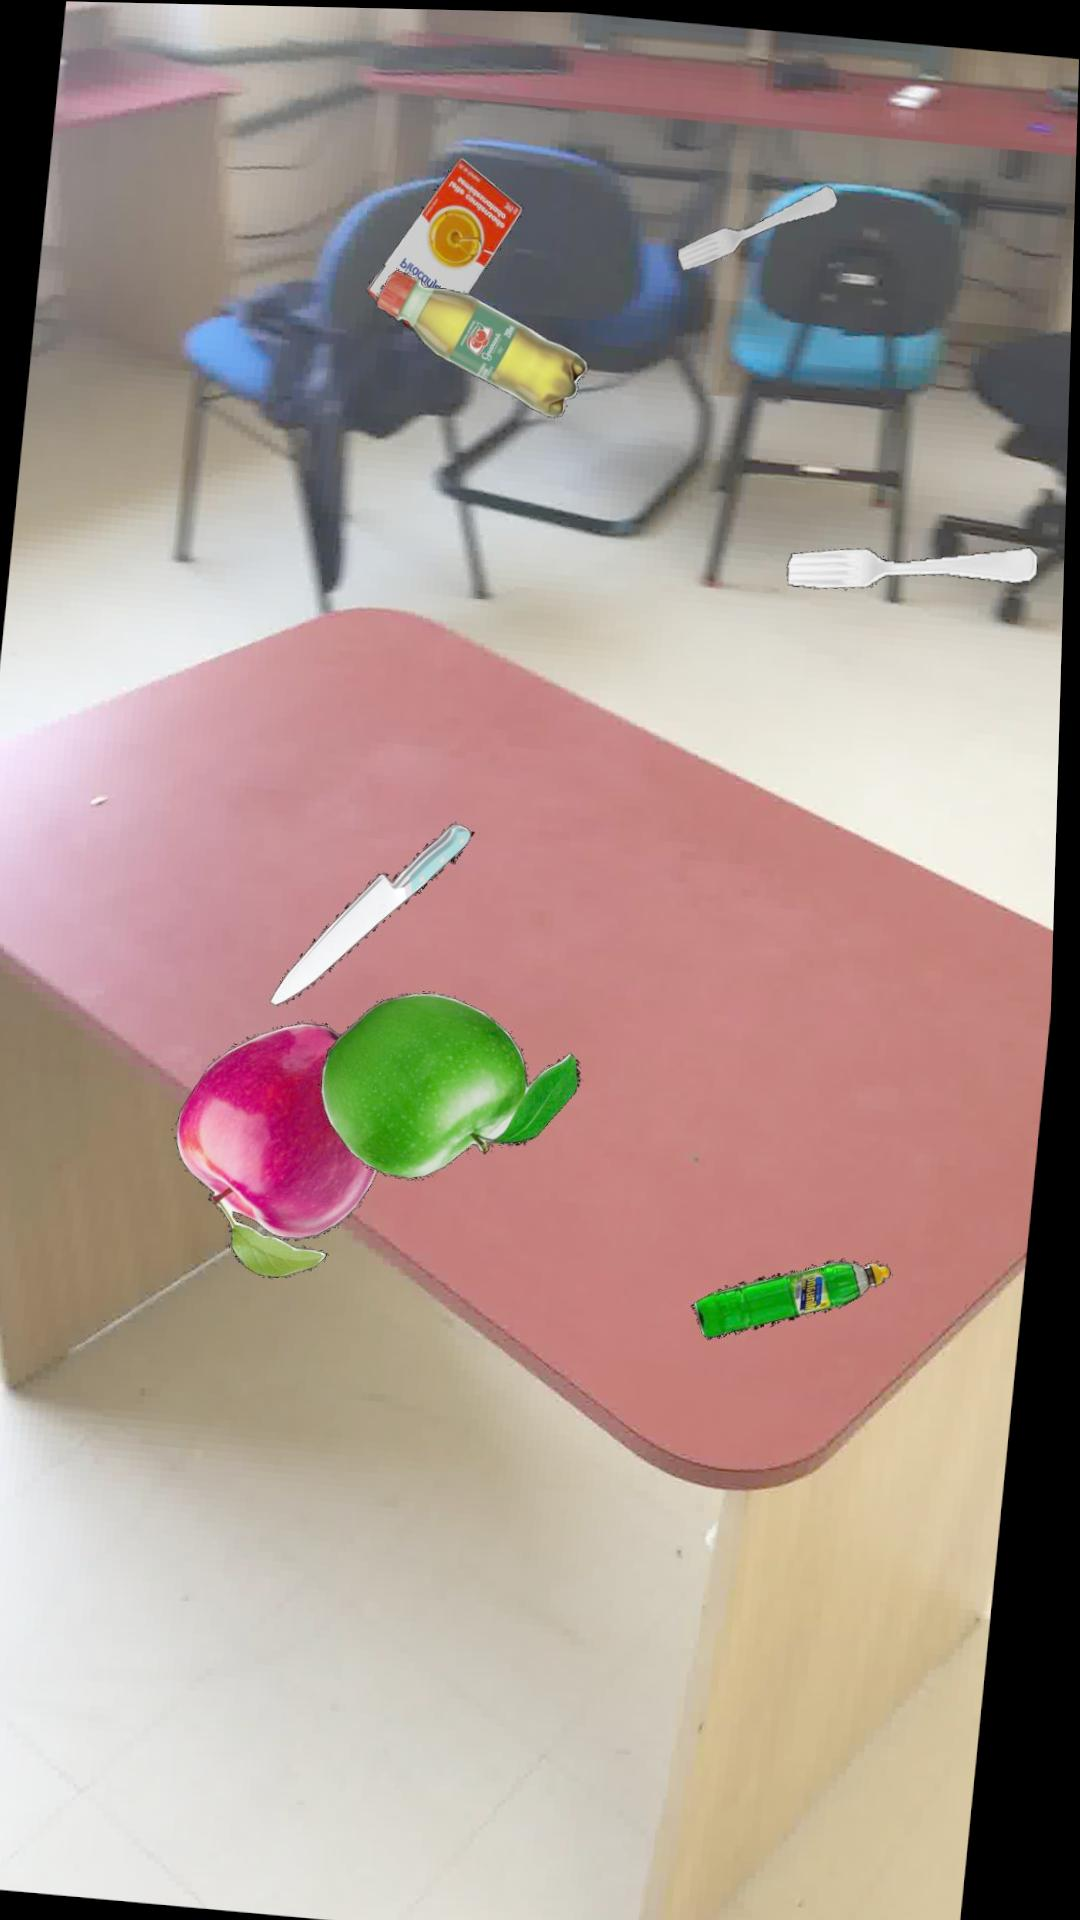apple: (182, 1021, 386, 1275)
cleaner: (700, 1253, 901, 1335)
fork: (680, 181, 840, 266), (791, 541, 1042, 584)
green apple: (328, 989, 588, 1176)
guarana: (378, 265, 592, 414)
knife: (277, 820, 481, 1002)
